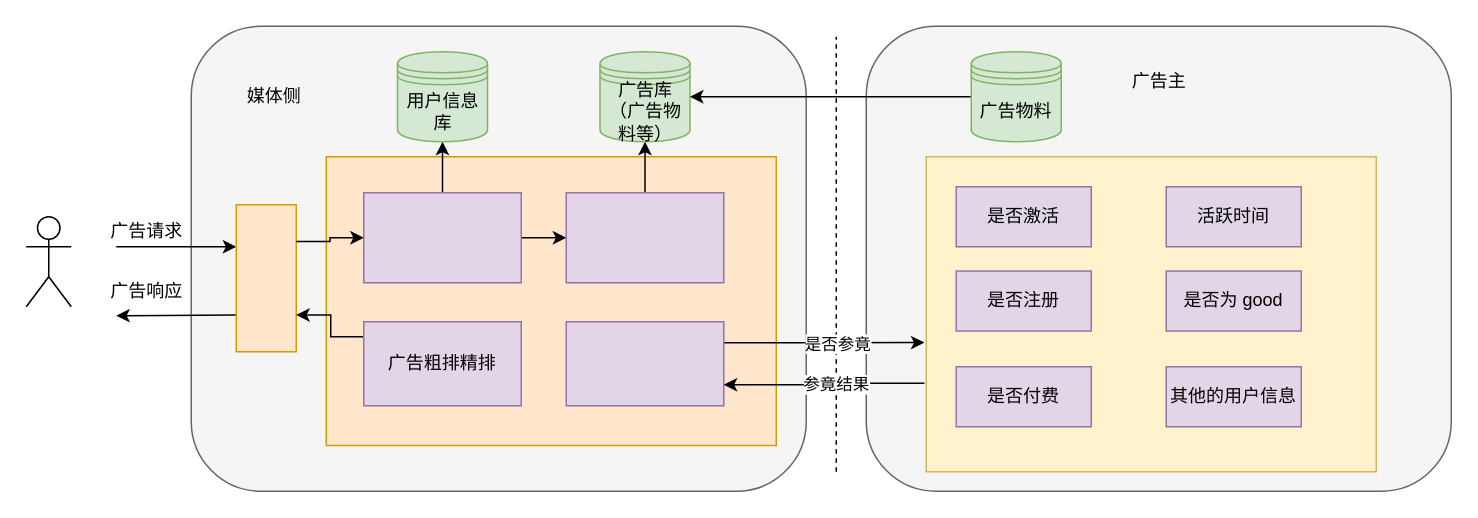
The diagram is 1478 pixels wide and 518 high, and some of its shapes have lost their labels. The box of each missing label's shape, as (x1, y1, x2, y2) in pixels:
Actor: (25, 215, 71, 307)
RTA: (565, 320, 724, 406)
广告检索检索: (565, 191, 724, 283)
接口层: (235, 203, 296, 352)
用户信息检索: (362, 191, 521, 283)
